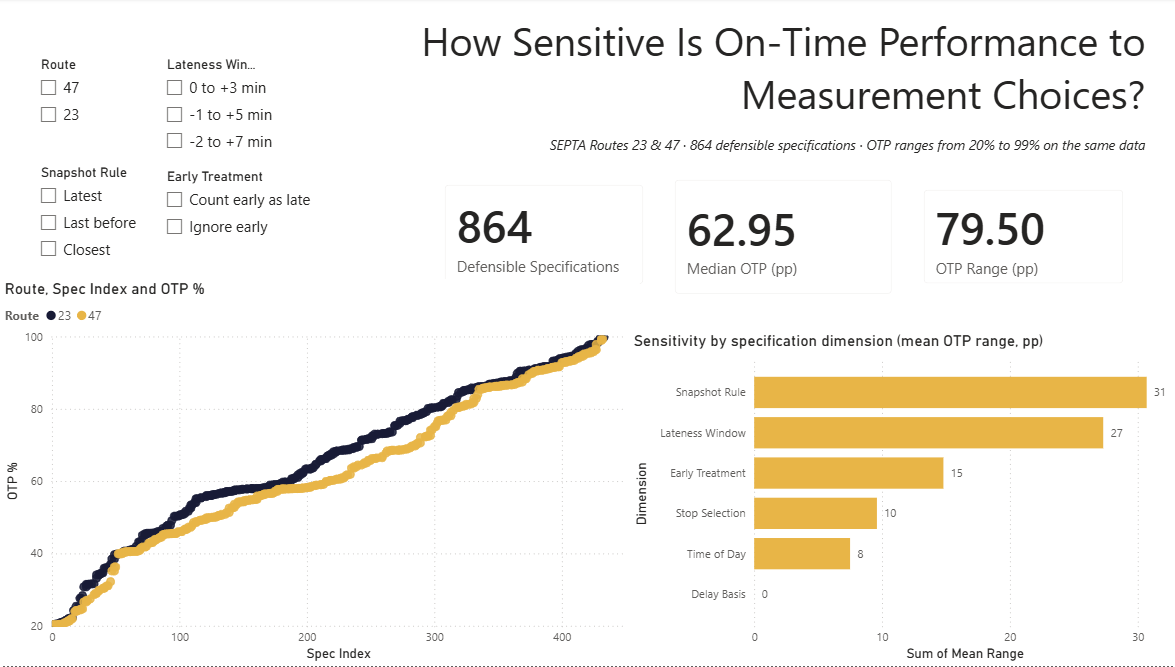

Layout of this report page (visuals, bound fields, positions):
{"tool":"powerbi","page":{"name":"Page 1","canvas":[1280,720],"ordinal":0},"visuals":[{"type":"cardVisual","fields":{"Data":["Specifications.OTP Range"]},"box":[979.1,189.8,249.1,135.9],"z":0},{"type":"cardVisual","fields":{"Data":["Specifications.Median OTP"]},"box":[710.6,179,268.5,157.4],"z":1000},{"type":"cardVisual","fields":{"Data":["CountNonNull(Specifications.OTP %)"]},"box":[462.6,184.4,248,141.3],"z":2000},{"type":"scatterChart","fields":{"Y":["Specifications.OTP %"],"Series":["Specifications.Route"],"X":["Specifications.Spec Index"]},"box":[0,302.5,689.6,417.3],"z":3000},{"type":"clusteredBarChart","title":"Sensitivity by specification dimension (mean OTP range, pp)","fields":{"Category":["Sensitivity.Dimension"],"Y":["Sum(Sensitivity.Mean Range)"]},"box":[677.9,358.9,602.1,360.9],"z":4000},{"type":"slicer","fields":{"Values":["Specifications.Route"]},"box":[31.3,58.2,135.9,97.1],"z":5000},{"type":"slicer","fields":{"Values":["Specifications.Snapshot Rule Display"]},"box":[31.3,174.7,135.9,116.5],"z":6000},{"type":"slicer","fields":{"Values":["Specifications.Early Treatment Display"]},"box":[167.1,179,191.9,99.2],"z":7000},{"type":"slicer","fields":{"Values":["Specifications.Lateness Window Display"]},"box":[167.1,58.2,135.9,116.5],"z":8000},{"type":"textbox","box":[359.1,11.9,881,162.8],"z":9000}]}

Visuals, with their boxes in screenshot pixels (x1, y1, x2, y2), scaled from the page's 1280x720 canvas onto the 1175x667 screenshot:
cardVisual - Specifications.OTP Range: 899,176,1127,302
cardVisual - Specifications.Median OTP: 652,166,899,312
cardVisual - CountNonNull(Specifications.OTP %): 425,171,652,302
scatterChart - Specifications.OTP % x Specifications.Route: 0,280,633,666
"Sensitivity by specification dimension (mean OTP range, pp)" clusteredBarChart: 622,332,1174,666
slicer - Specifications.Route: 29,54,153,144
slicer - Specifications.Snapshot Rule Display: 29,162,153,270
slicer - Specifications.Early Treatment Display: 153,166,330,258
slicer - Specifications.Lateness Window Display: 153,54,278,162
textbox: 330,11,1138,162
